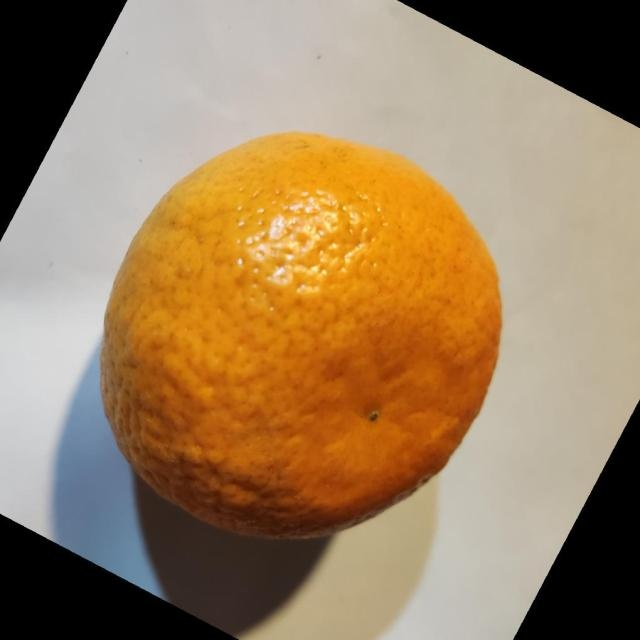agrume: (99, 129, 503, 541)
